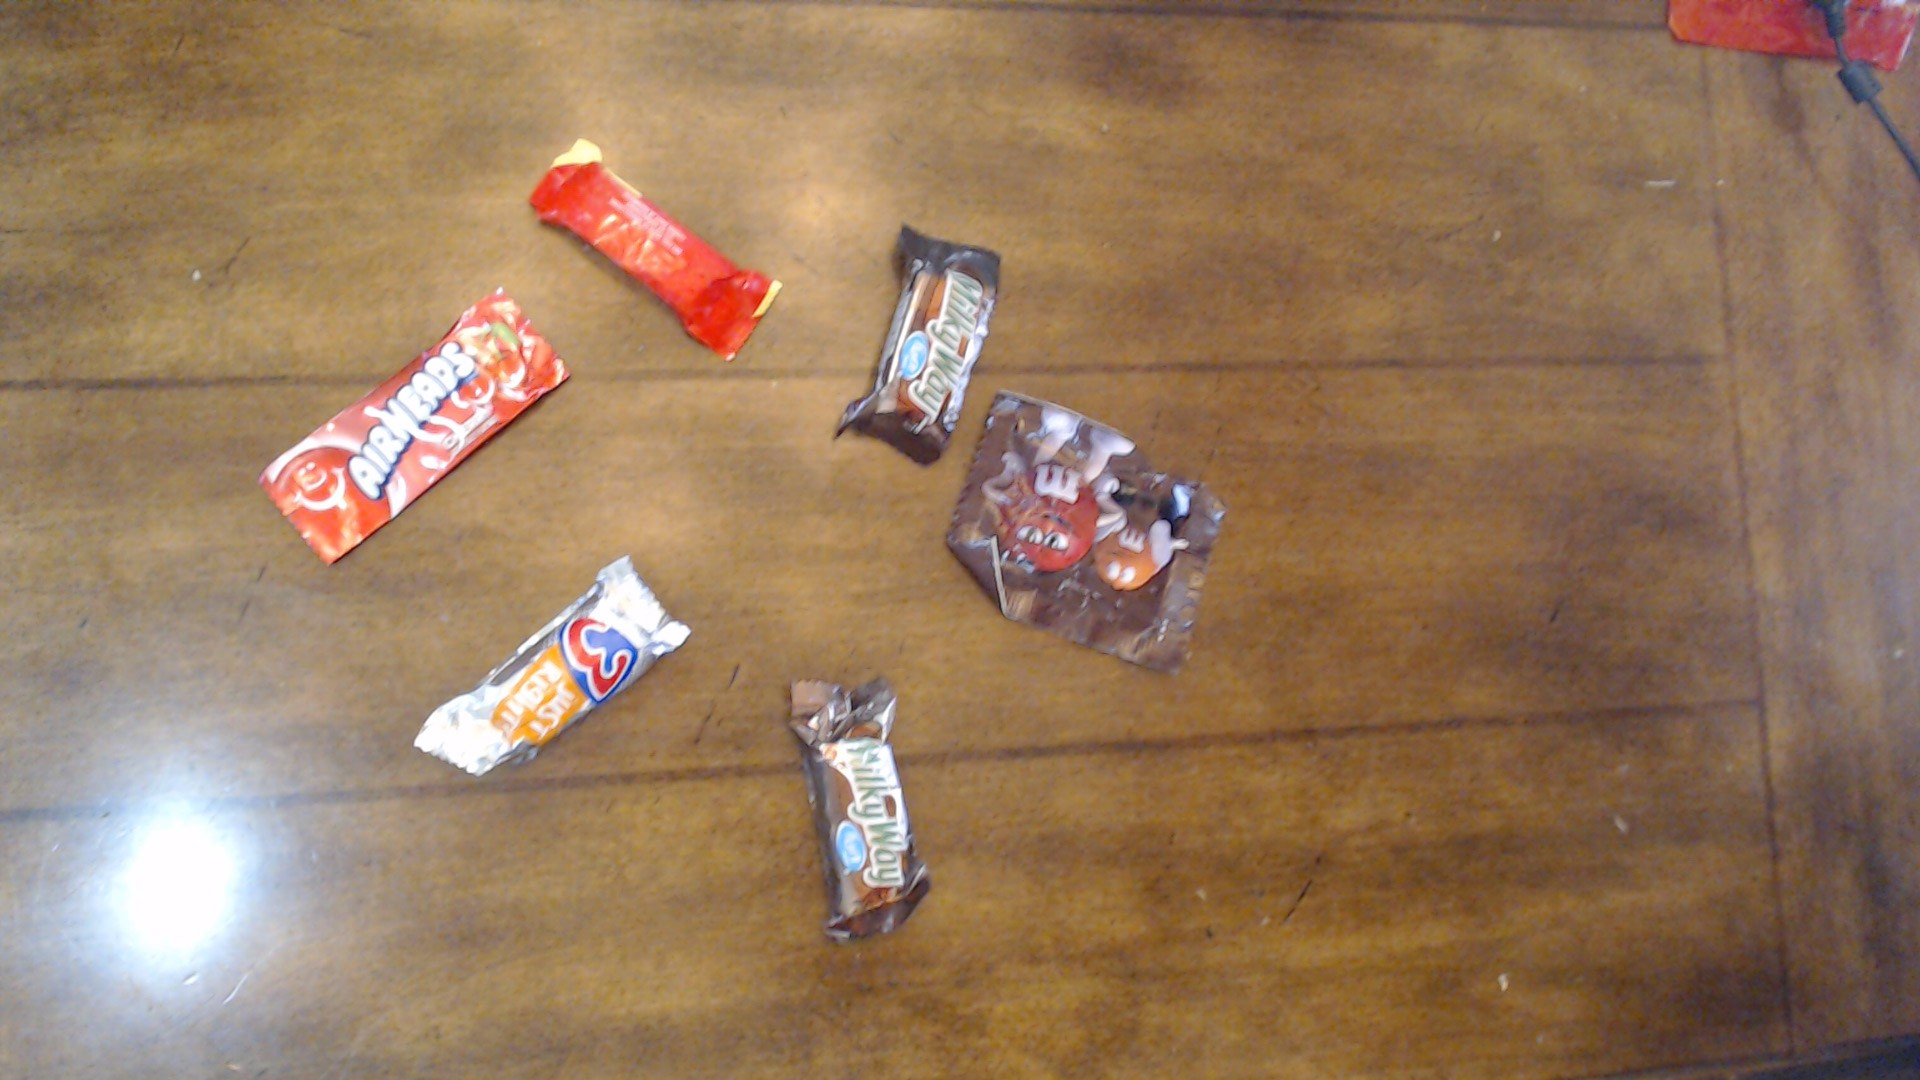MMs_peanut: (942, 385, 1209, 723)
airheads: (215, 276, 585, 564)
milky_way: (767, 650, 969, 953), (833, 185, 996, 483)
starbust: (508, 94, 806, 368)
three_musketeers: (406, 545, 728, 827)
